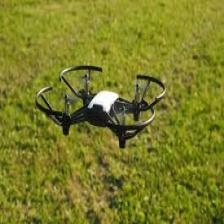drone: (36, 65, 166, 148)
